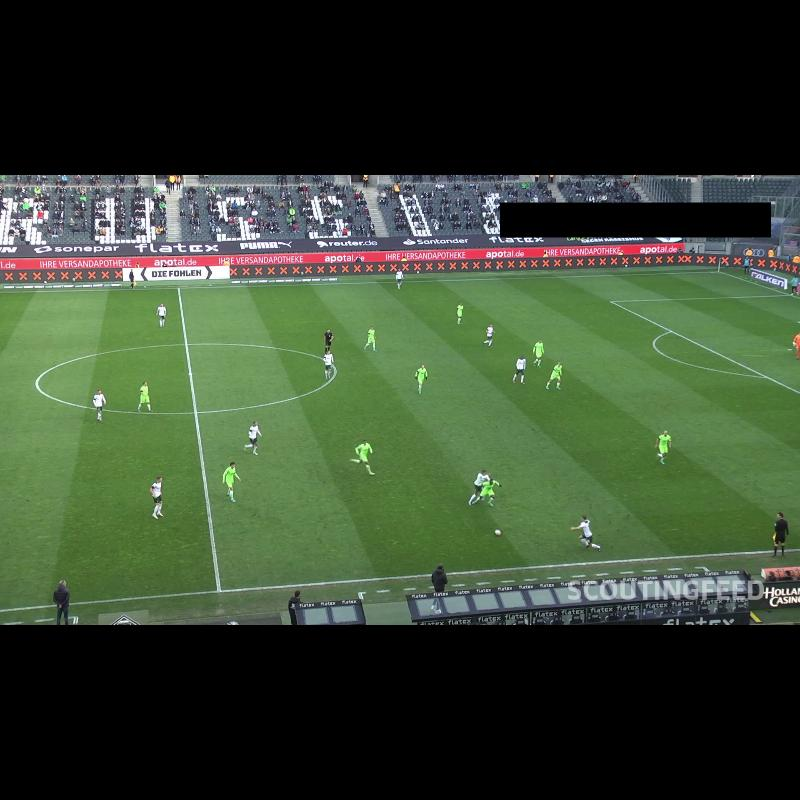cross_recipient_zone: (611, 295, 800, 393)
crossing_player_zone: (473, 271, 788, 306), (740, 444, 800, 496)
pitch: (0, 271, 800, 611)
